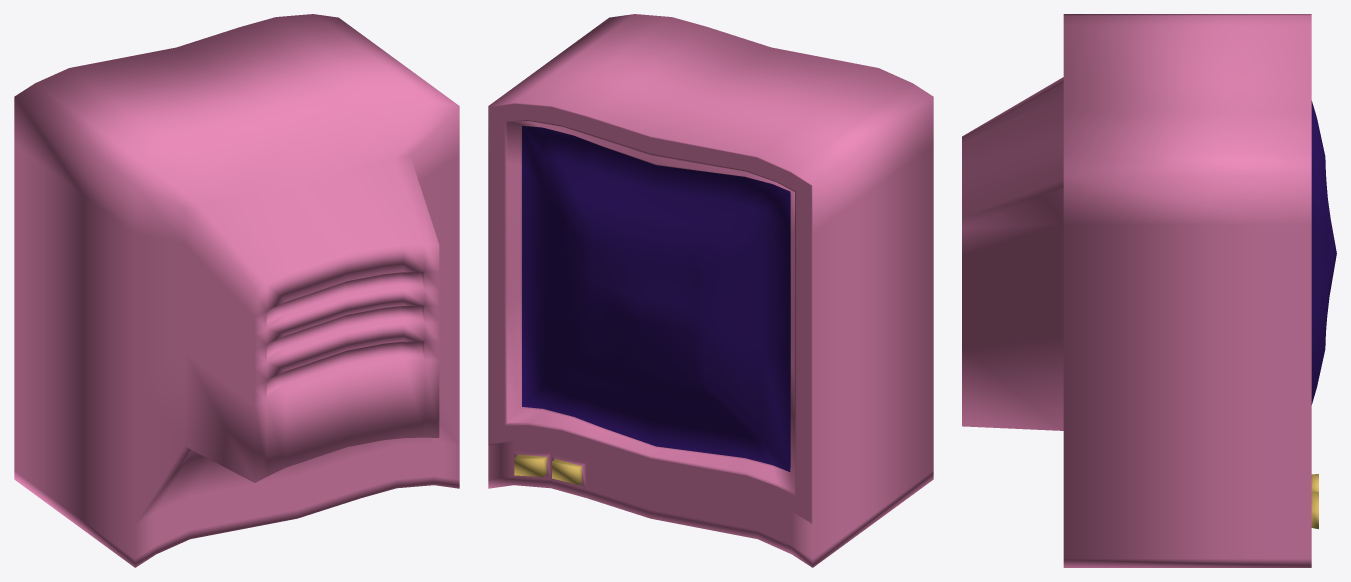
Rendered from Monitor3.fbx.
The picture shows the model from 3 angles, left to right: view 1: azimuth 30°, elevation 25°; view 2: azimuth 150°, elevation 25°; view 3: azimuth 270°, elevation 25°; orthographic projection. The views are drawn at different scales.
Visible parts, largest first — view 1: Cube.076; view 2: Cube.076; view 3: Cube.076.
Part boxes in pixels (<box>): Cube.076: <box>14,14,459,567</box>; Cube.076: <box>488,14,933,567</box>; Cube.076: <box>962,14,1336,567</box>.
Bounding box in the file's own units: 58.3 × 68.39 × 56.94.
